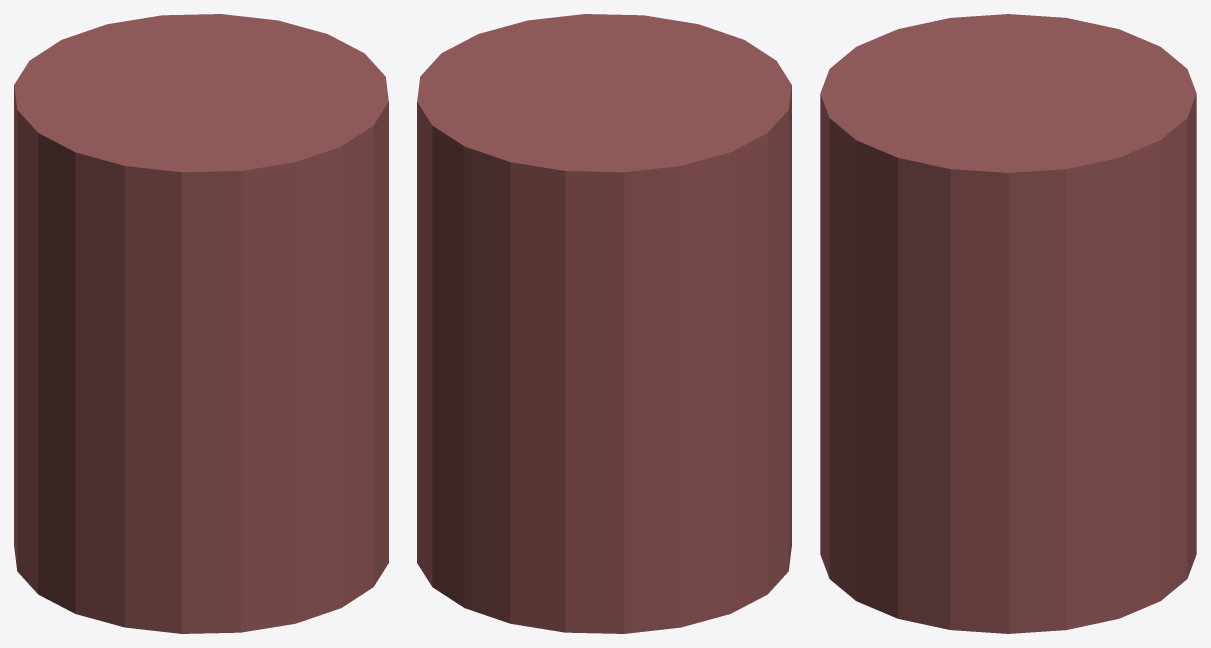
The model's file is colon1_center.fbx.
3 views of the same model, side by side, from view 1: azimuth 30°, elevation 25°; view 2: azimuth 150°, elevation 25°; view 3: azimuth 270°, elevation 25° (orthographic).
Parts seen in each view (by area): view 1: colon_center; view 2: colon_center; view 3: colon_center.
Boxes of the visible parts, <box> form: colon_center: <box>14,14,388,633</box>; colon_center: <box>417,14,791,633</box>; colon_center: <box>820,14,1196,633</box>.
Size of the model in its own units: 0.7397 by 1 by 0.7397.
